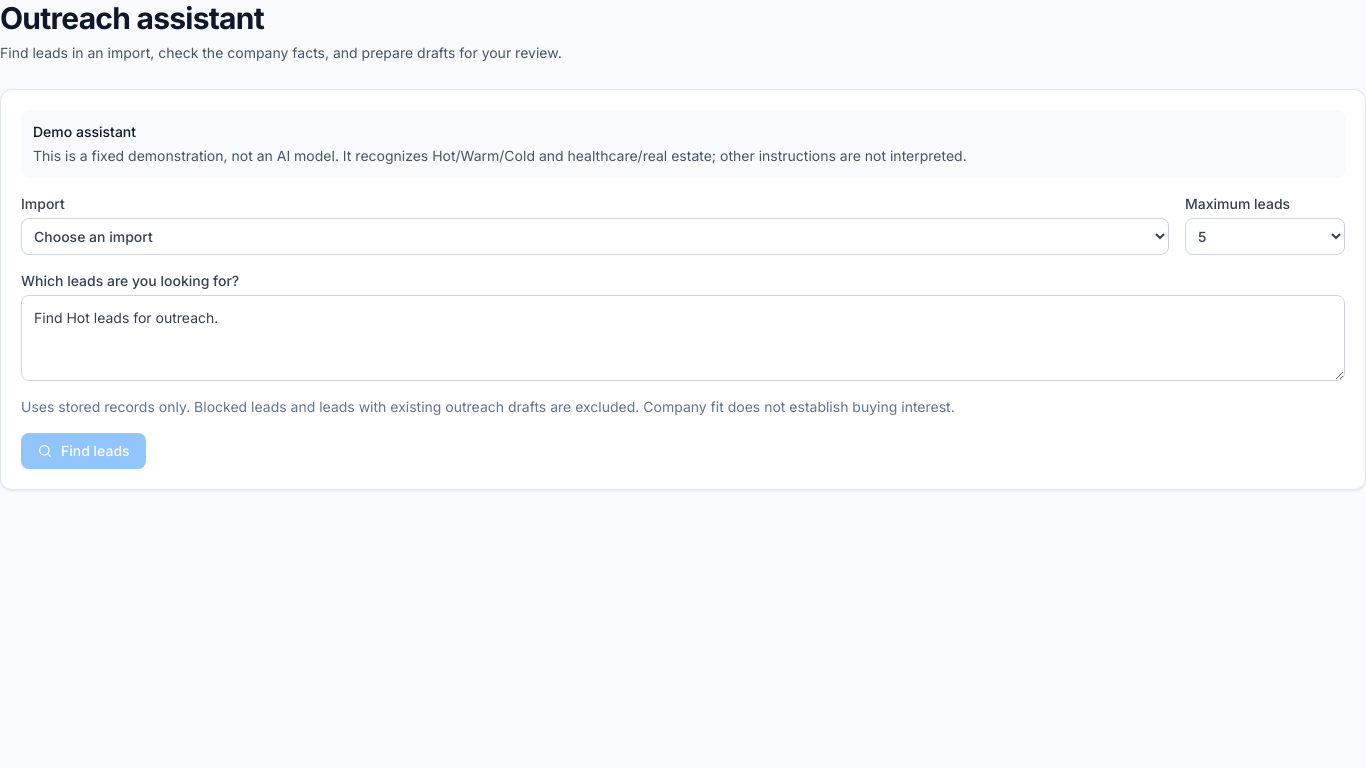
Outreach assistant › labels the mock honestly and only prepares drafts after explicit confirmation
The image size is (1366, 768).
Expected: the text "Demo assistant" is shown, [33,123,136,140]
Select "Clinic import · 5 leads" in the dropdown labelled "Import" at {"x": 595, "y": 236}, box [21,218,1169,255]
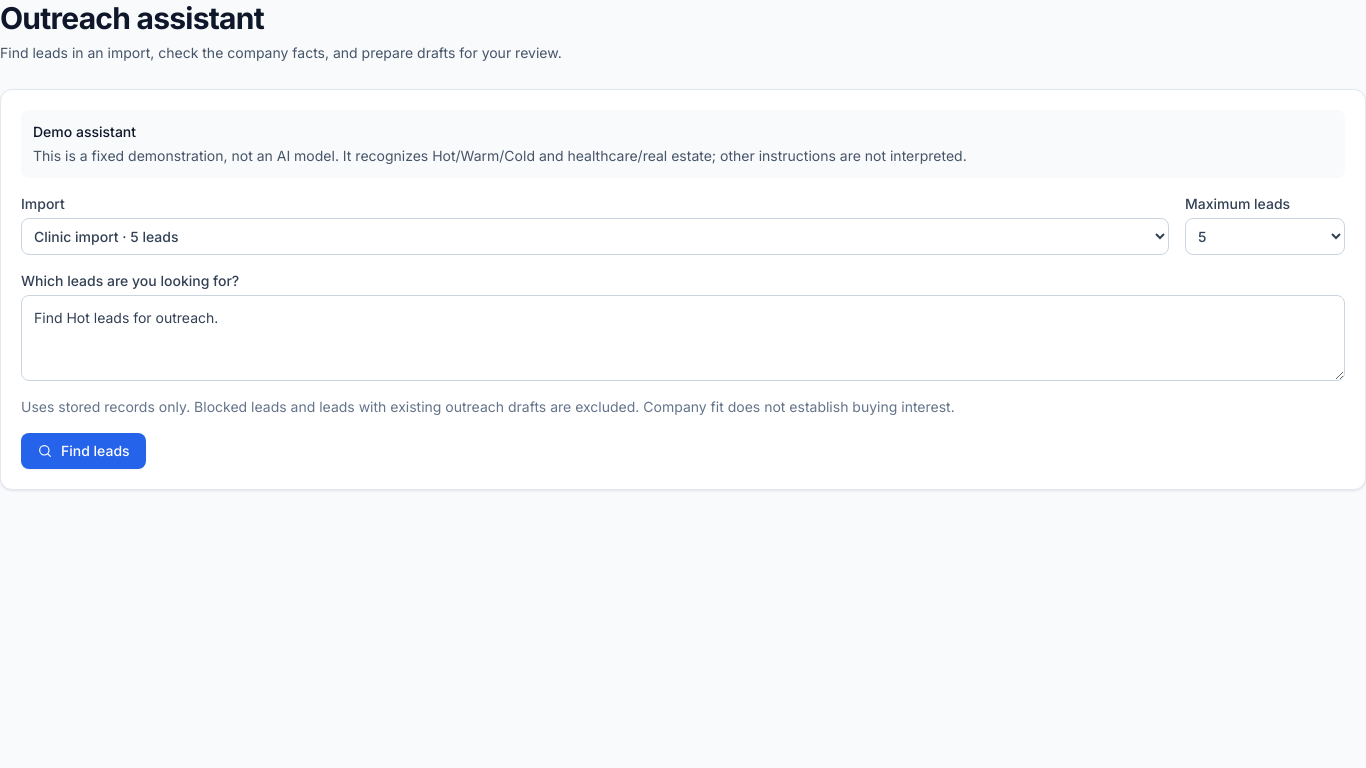
Click the button "Find leads" at {"x": 83, "y": 451}, box [21,433,146,469]
(page scrolled)
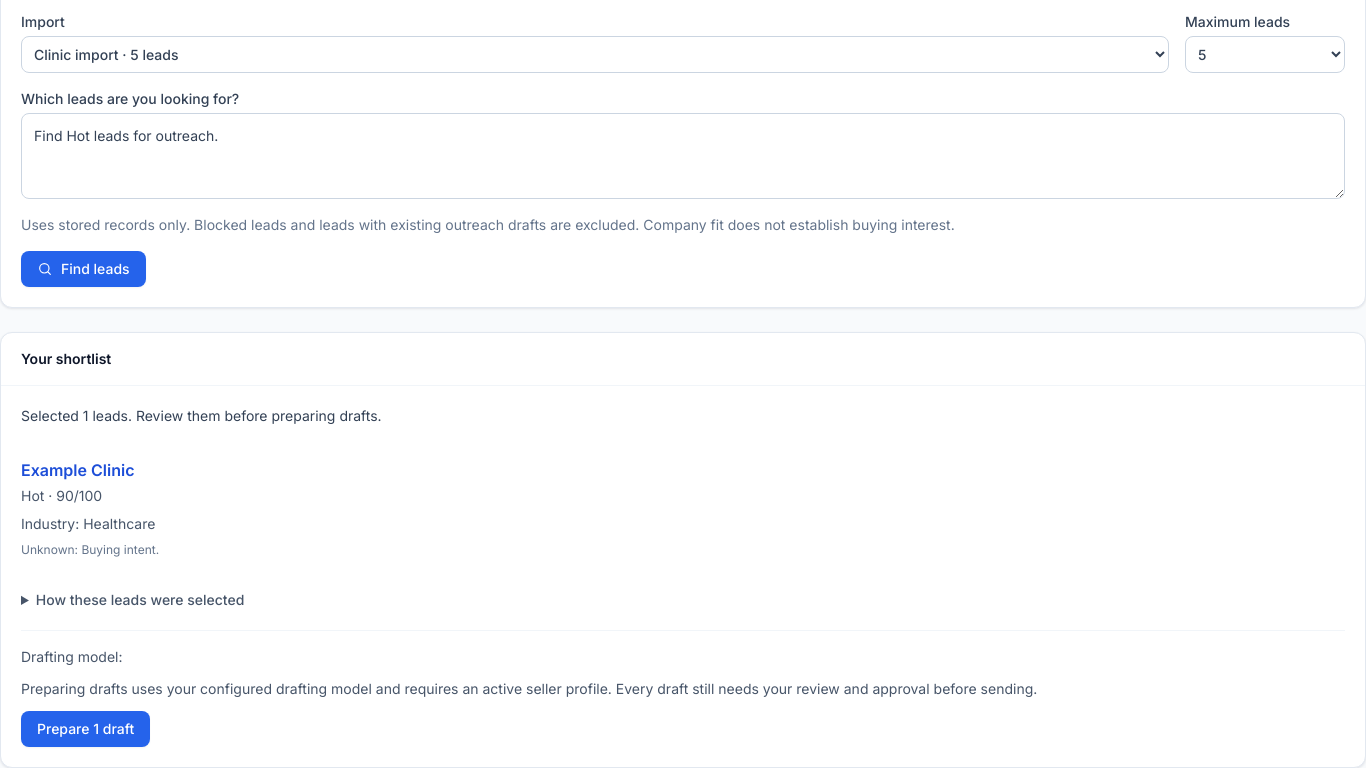
Now the text "Unknown: Buying intent." is shown, box [21,542,159,557]
Click the button "Prepare 1 draft" at {"x": 86, "y": 729}, box [21,711,150,747]
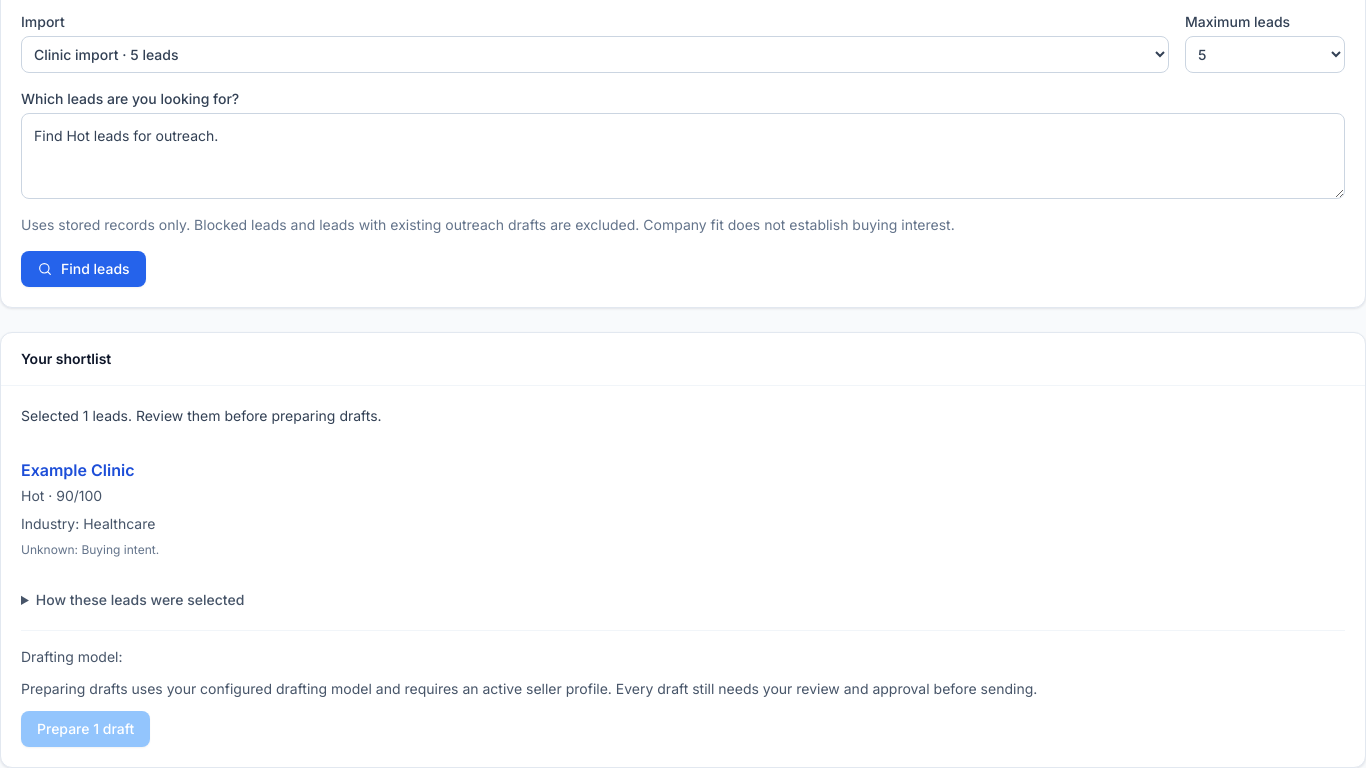
Now the button "Prepare 1 draft" is disabled, box [21,711,150,747]
